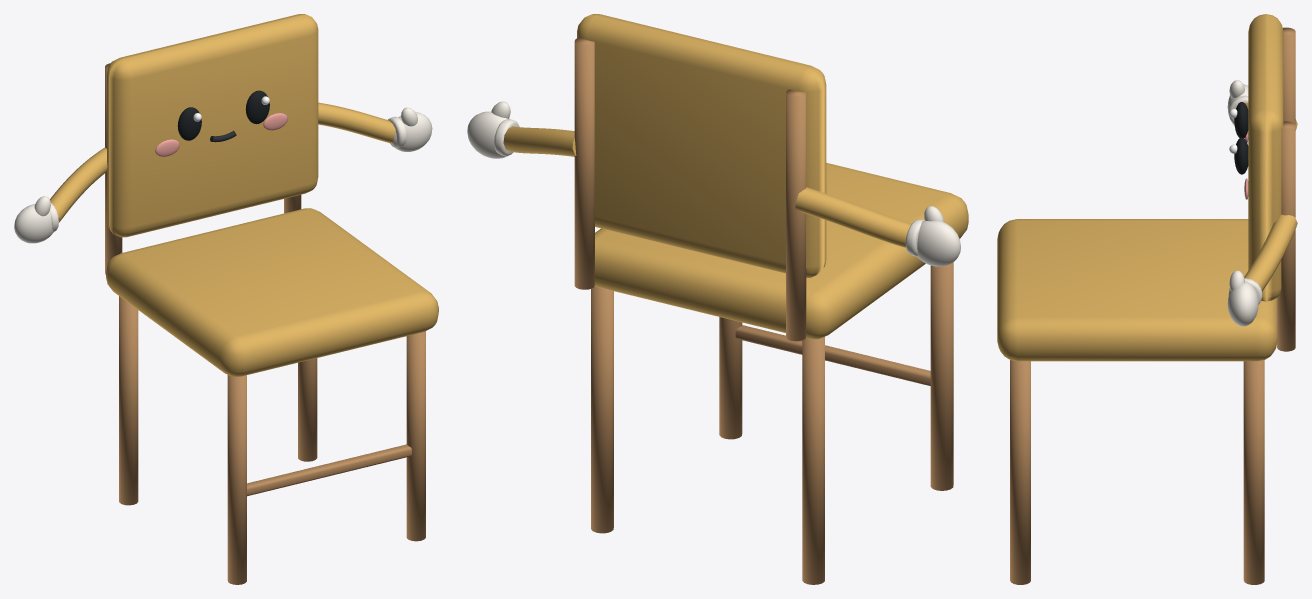
File: chair-seat-back.glb
The picture shows the model from 3 angles, left to right: view 1: azimuth 30°, elevation 25°; view 2: azimuth 150°, elevation 25°; view 3: azimuth 270°, elevation 25°; orthographic projection. The views are drawn at different scales.
Visible parts, largest first — view 1: Upholstery.008, Legs.006, Arm_L.008, Arm_R.008, Sphere.083, Sphere.080; view 2: Upholstery.008, Legs.006, Arm_L.008, Arm_R.008; view 3: Upholstery.008, Legs.006, Arm_R.008, Arm_L.008, Sphere.083, Sphere.080.
Part boxes in pixels (<box>): Upholstery.008: <box>106,14,438,376</box>; Legs.006: <box>105,63,425,584</box>; Arm_L.008: <box>14,147,107,243</box>; Arm_R.008: <box>318,102,432,151</box>; Sphere.083: <box>245,90,269,124</box>; Sphere.080: <box>177,107,201,140</box>; Upholstery.008: <box>577,14,968,339</box>; Legs.006: <box>574,37,953,584</box>; Arm_L.008: <box>795,187,960,266</box>; Arm_R.008: <box>467,101,576,158</box>; Upholstery.008: <box>997,14,1283,361</box>; Legs.006: <box>1010,27,1295,584</box>; Arm_R.008: <box>1227,214,1297,326</box>; Arm_L.008: <box>1227,80,1297,130</box>; Sphere.083: <box>1234,137,1248,174</box>; Sphere.080: <box>1234,102,1248,137</box>.
Bounding box in the file's own units: 0.8834 × 0.89 × 0.5144.
